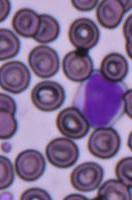L: (71, 70, 129, 128)
